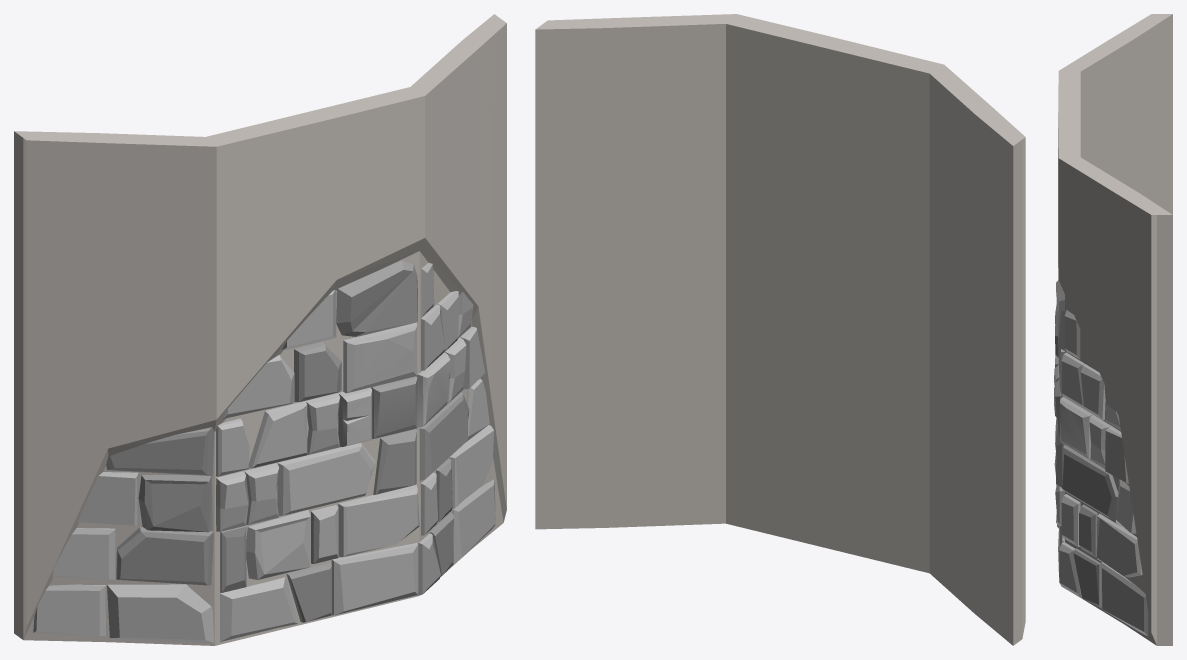
Rendered from _BALKON_03_1.fbx.
3 renders of one model, left to right at view 1: azimuth 30°, elevation 25°; view 2: azimuth 150°, elevation 25°; view 3: azimuth 270°, elevation 25°, orthographic. The views are drawn at different scales.
Visible parts, largest first — view 1: BALKON_03_1; view 2: BALKON_03_1; view 3: BALKON_03_1.
Part boxes in pixels (bbox=[...]): BALKON_03_1: bbox=[14, 14, 506, 645]; BALKON_03_1: bbox=[535, 14, 1025, 645]; BALKON_03_1: bbox=[1054, 14, 1172, 645].
Bounding box in the file's own units: 300 × 300 × 74.99.
